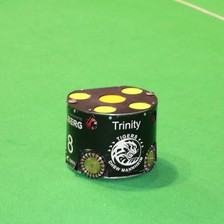robot: (60, 84, 162, 181)
